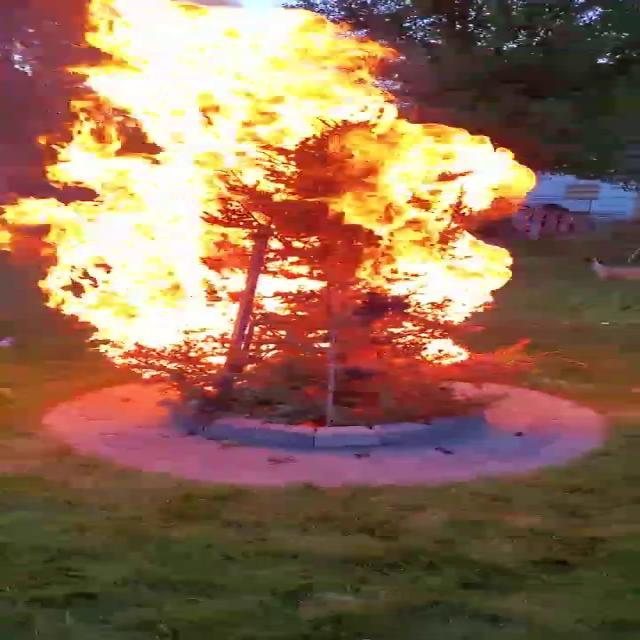Fire: (3, 1, 559, 372)
